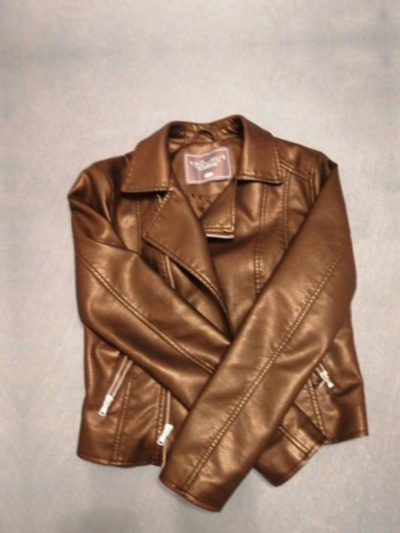Blazer: (46, 112, 386, 510)
